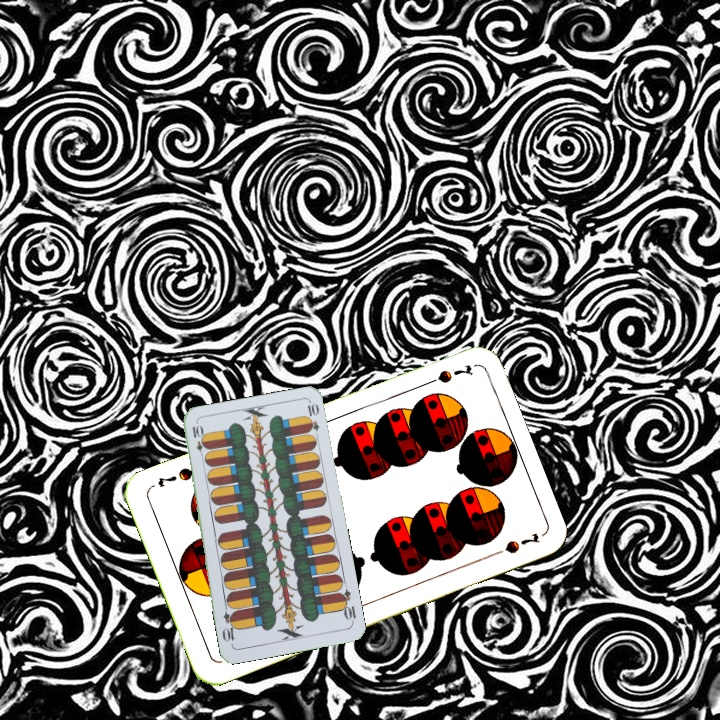E10: (335, 585, 359, 626), (188, 421, 207, 461)
S7: (418, 360, 475, 389)
